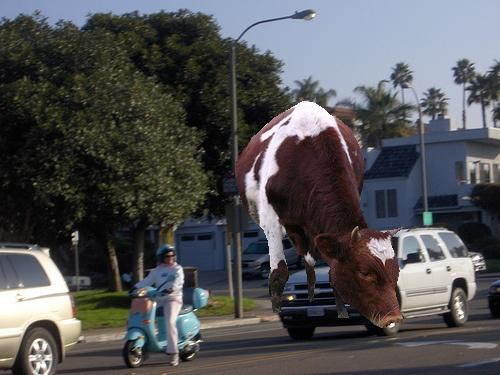tampered: (236, 102, 404, 328)
